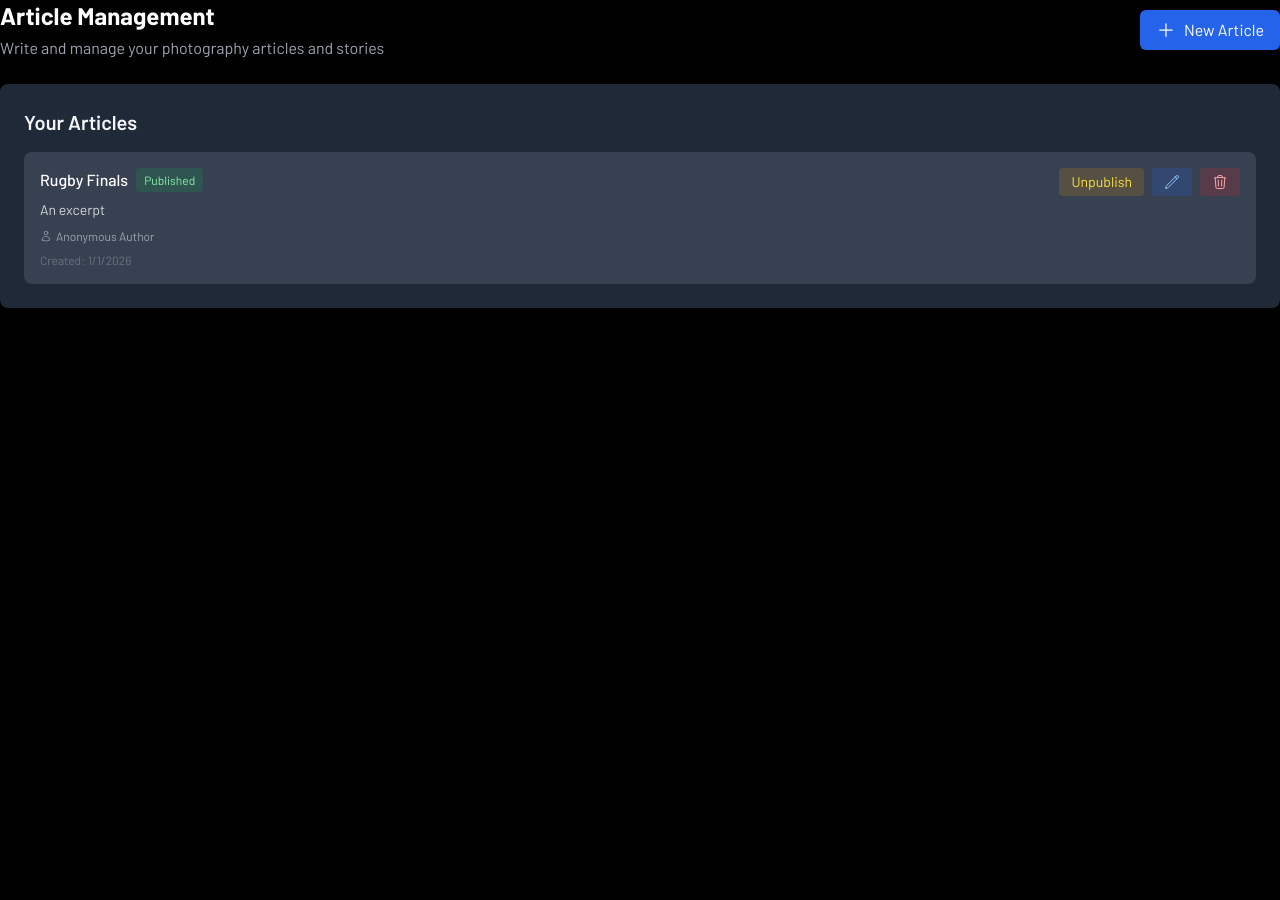
Test: Admin articles - photo set › hides the New Article button while the editor is open
expect the button "New Article" is shown: met, box [1140, 10, 1279, 50]
Click the button named "Edit article".
click(1172, 182)  # box [1152, 168, 1192, 196]
(page scrolled)
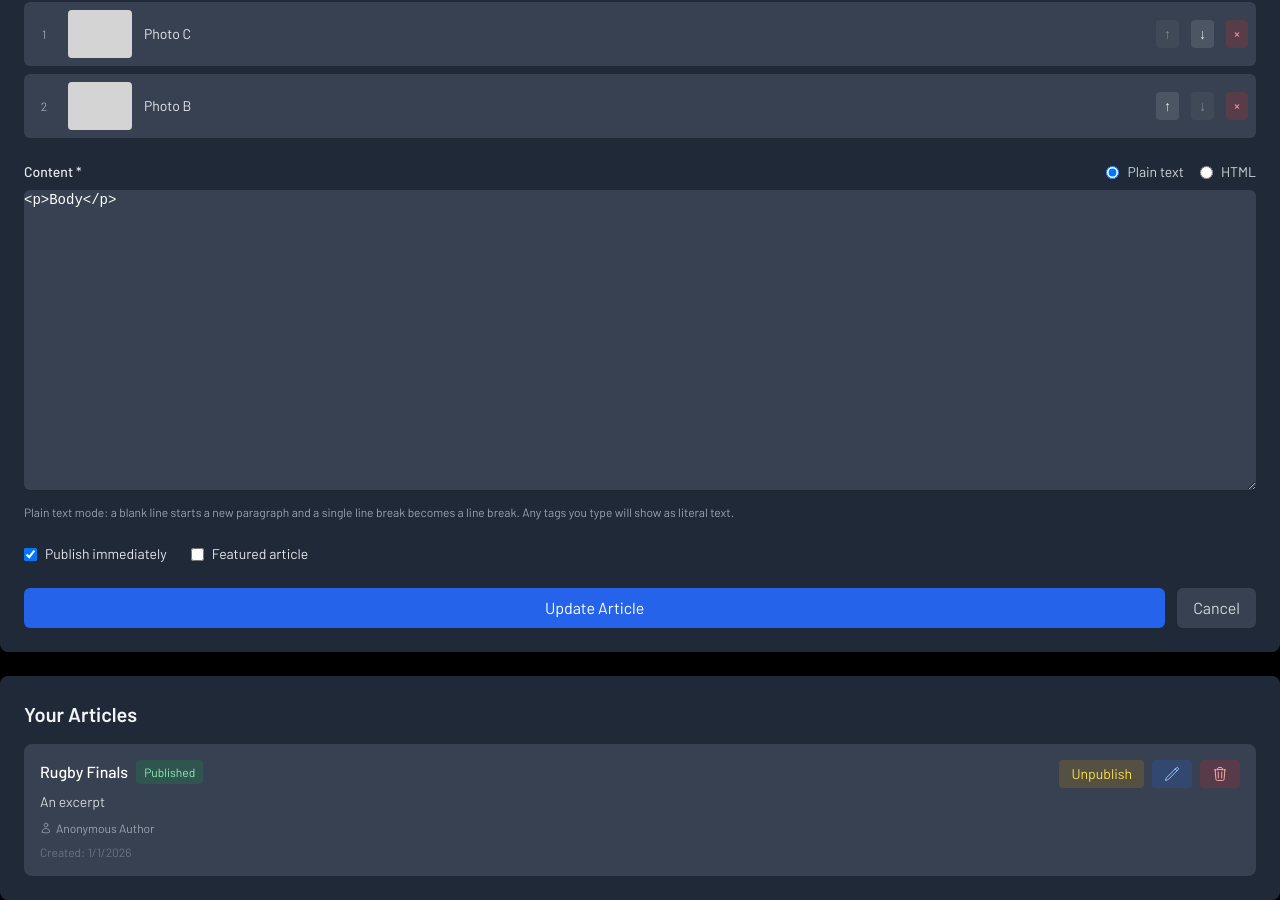
expect the button "New Article" is gone: met
Click the button "Cancel".
click(1217, 608)  # box [1177, 588, 1256, 628]
(page scrolled)
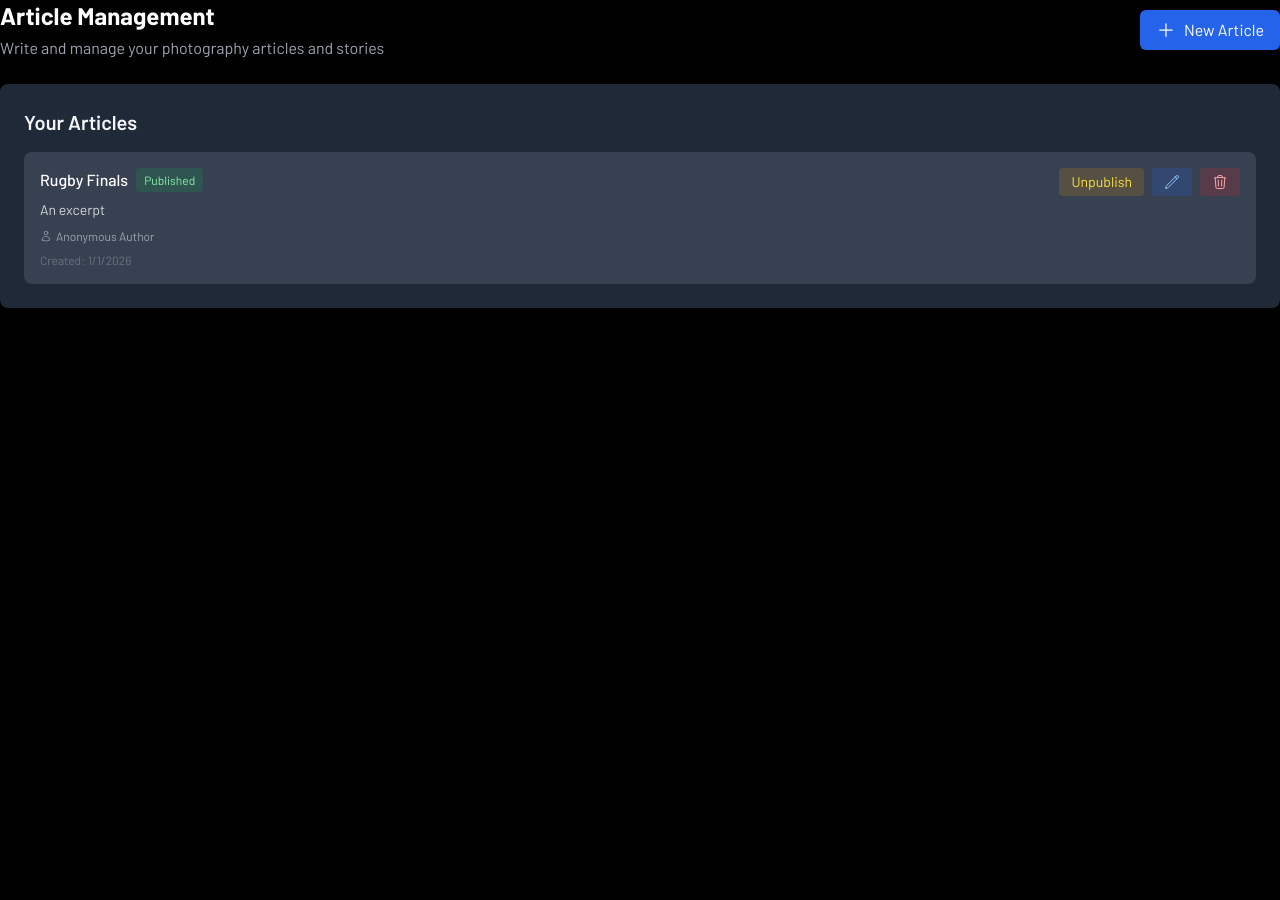
expect the button "New Article" is shown: met, box [1140, 10, 1279, 50]
